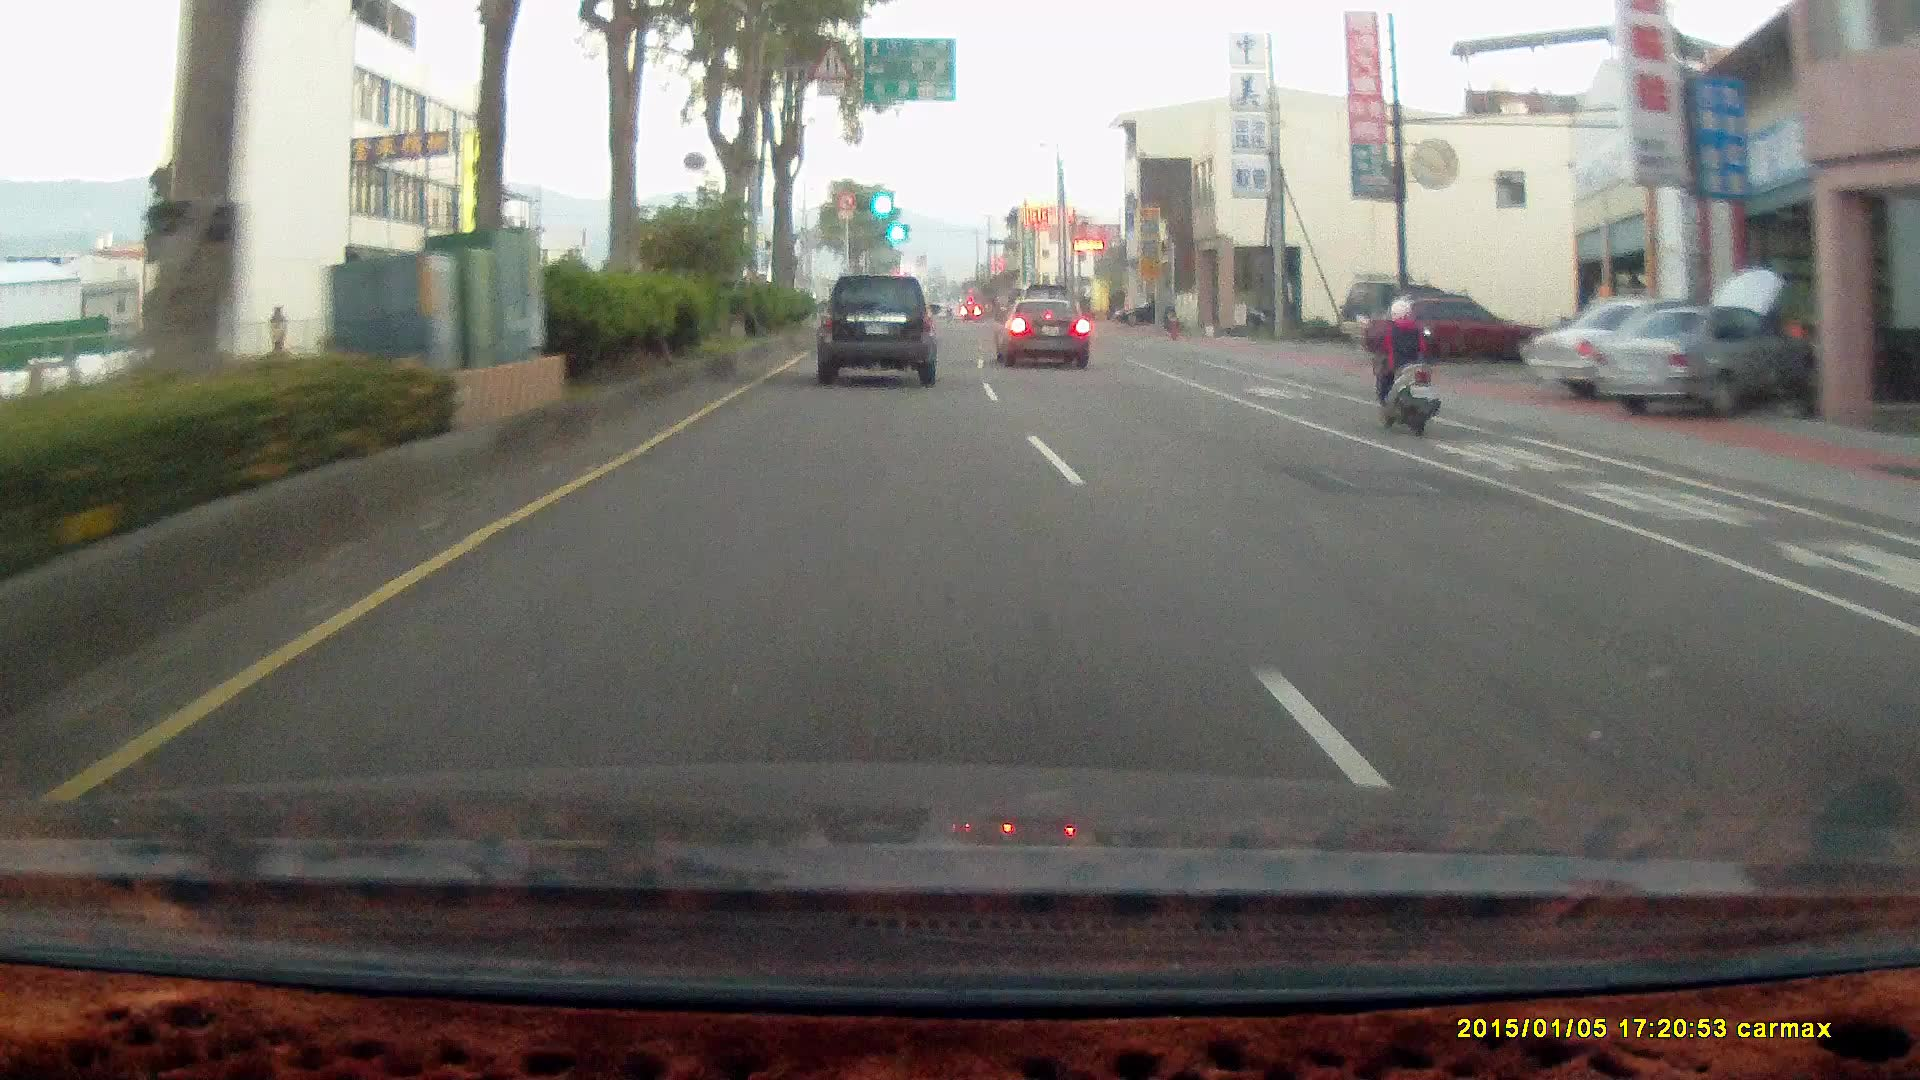rider: (1354, 282, 1454, 449), (1367, 288, 1439, 427)
vehicle: (1592, 304, 1813, 418), (1597, 298, 1819, 411), (1525, 297, 1757, 401), (813, 273, 943, 389), (1356, 290, 1548, 365), (816, 273, 940, 387), (1338, 274, 1459, 343), (995, 298, 1093, 373), (994, 294, 1090, 367), (1113, 295, 1174, 322)
